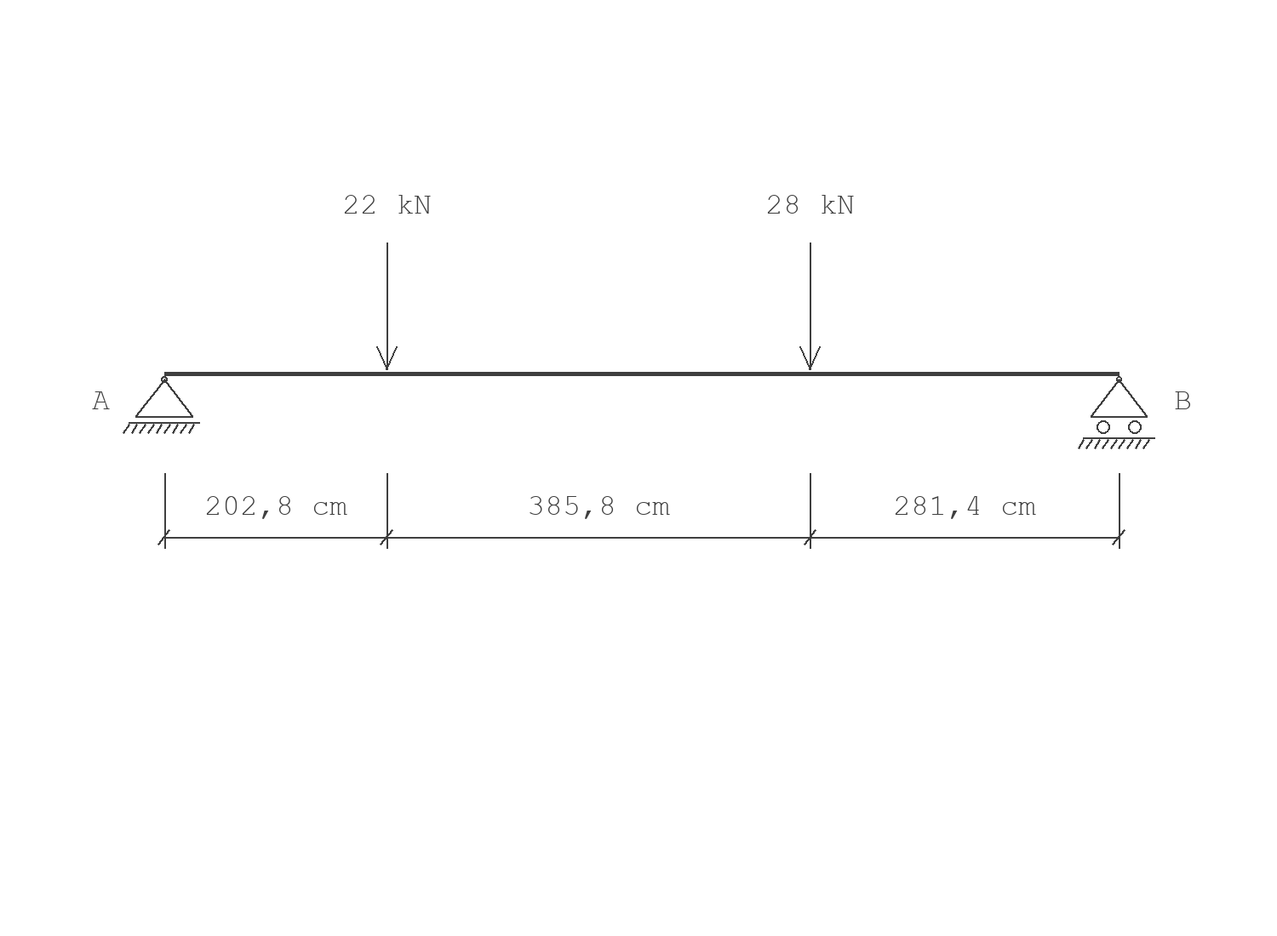pin_support: (123, 376, 200, 434)
point_load: (376, 243, 398, 370), (799, 243, 821, 370)
roller_support: (1078, 376, 1155, 449)
